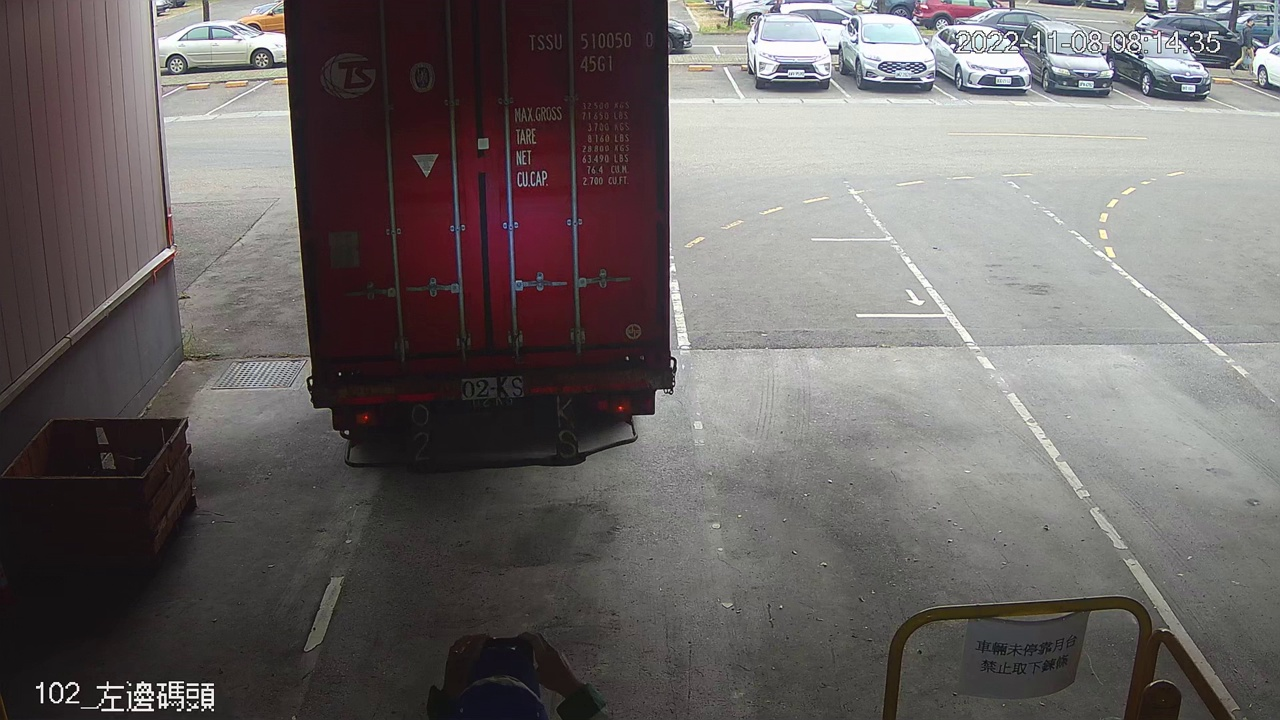container: (521, 25, 660, 80)
